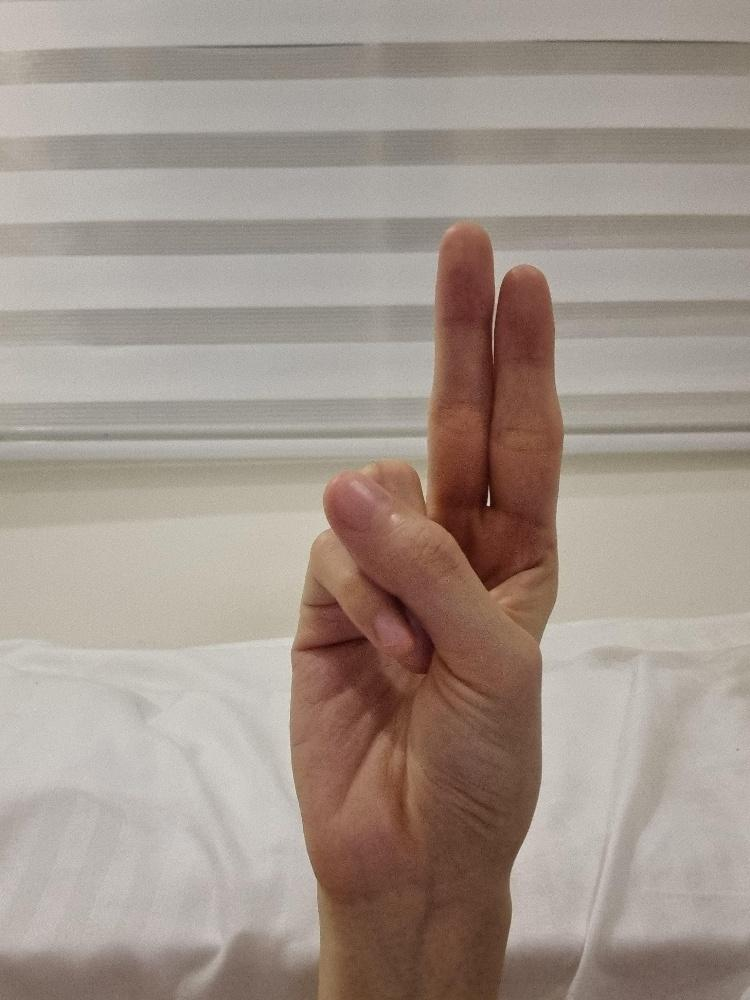u: (288, 218, 568, 899)
